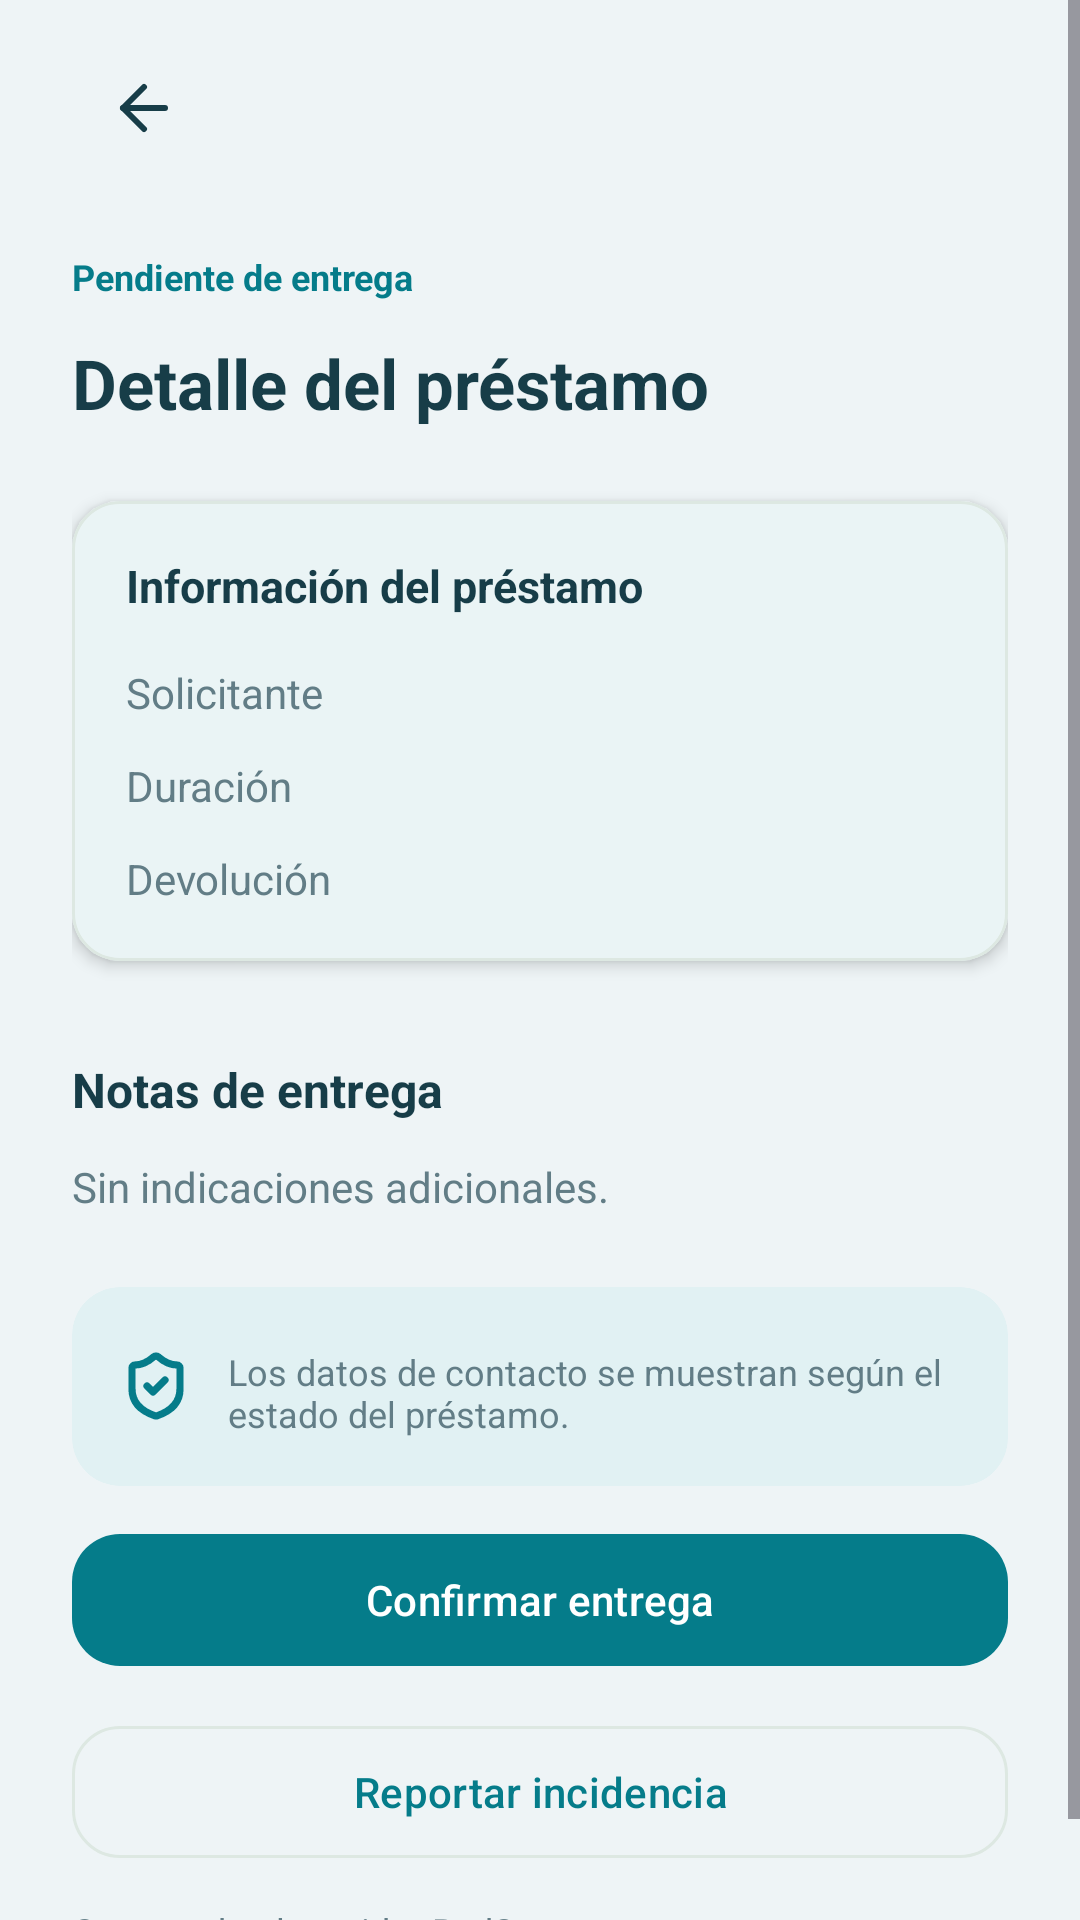

Screen size 1080 × 1920. Icon name, then its center in pixels as [x,y]:
Volver: [144,108]
